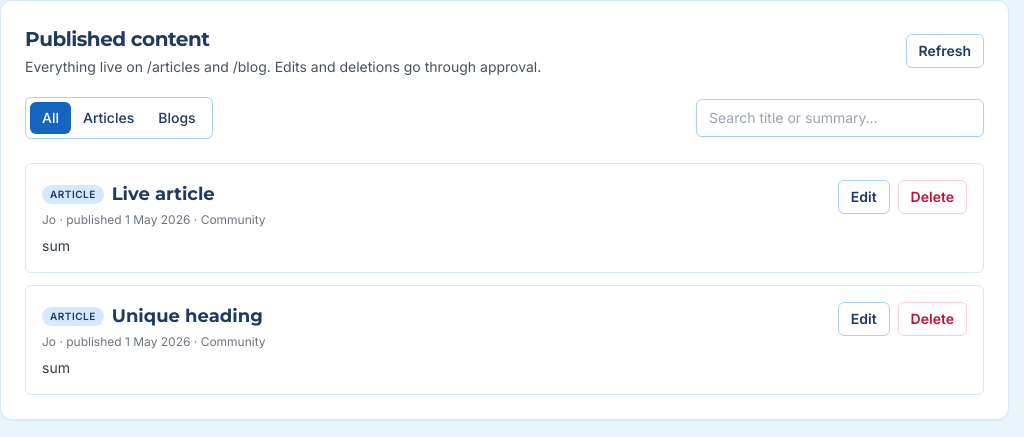
Test: PublishedContent › searches title/summary
This screenshot has width=1024, height=437.
Type "Unique" into the search field with placeholder "Search title or summary…" at (840, 118), box [696,99,984,137]
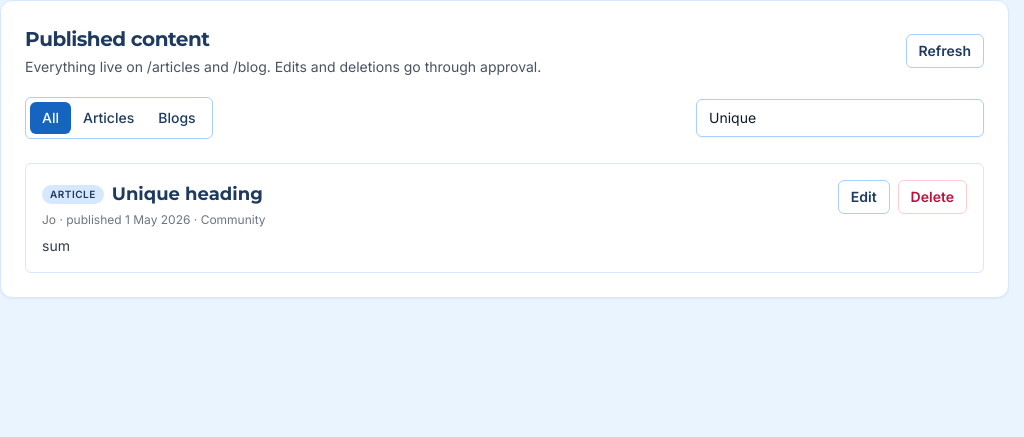
expect the text "Unique heading" is shown: met, box [112,180,263,208]
expect the text "Live article" is gone: met
